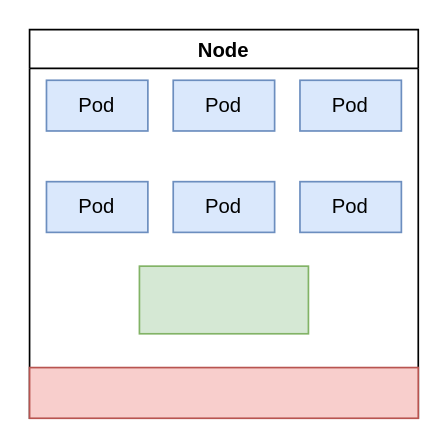
The diagram is 448 pixels wide and 448 high, and some of its shapes have lost their labels. Here are the shapes that lost their labels. From the top down, the box of each, then its label:
(138, 264, 308, 334): Filebeat
(28, 366, 418, 418): Node File System
